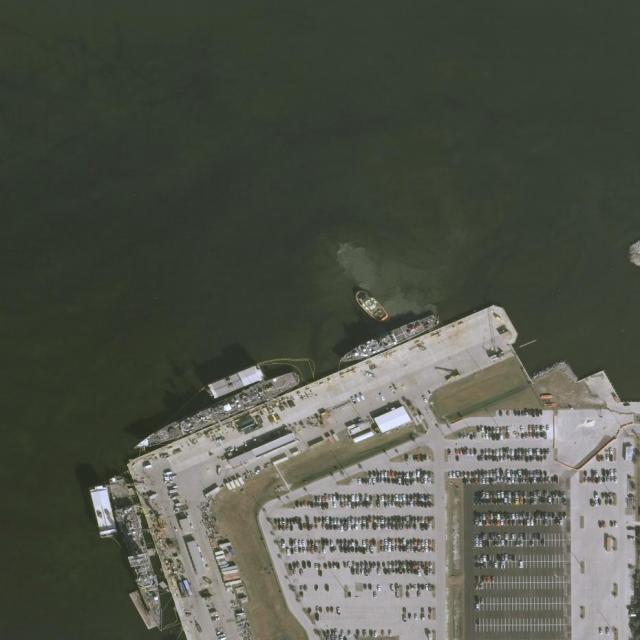Destroyer: (127, 367, 303, 456)
Hovercraft: (350, 284, 392, 326)
Other Warship: (104, 471, 170, 639), (336, 312, 442, 368)
